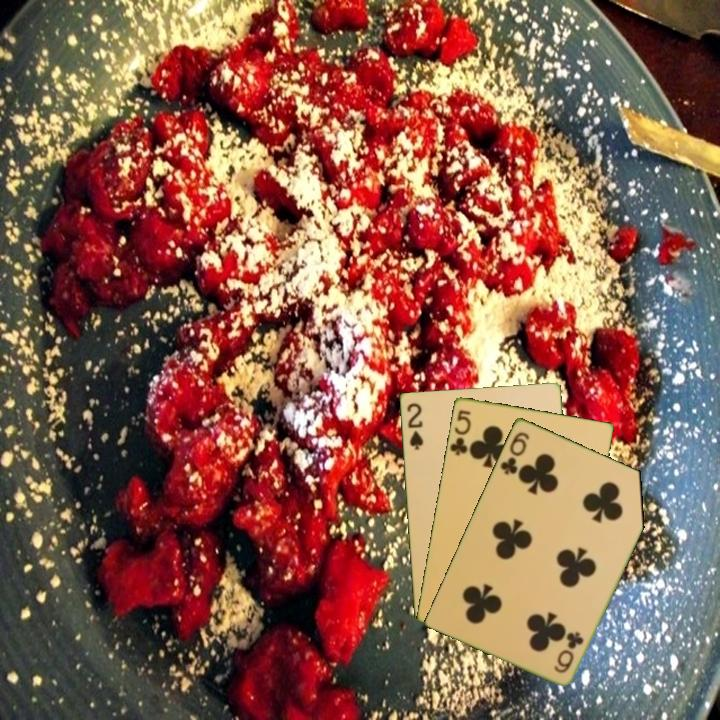2s: (403, 399, 426, 452)
5c: (447, 406, 473, 458)
6c: (496, 428, 532, 477), (551, 628, 587, 676)
